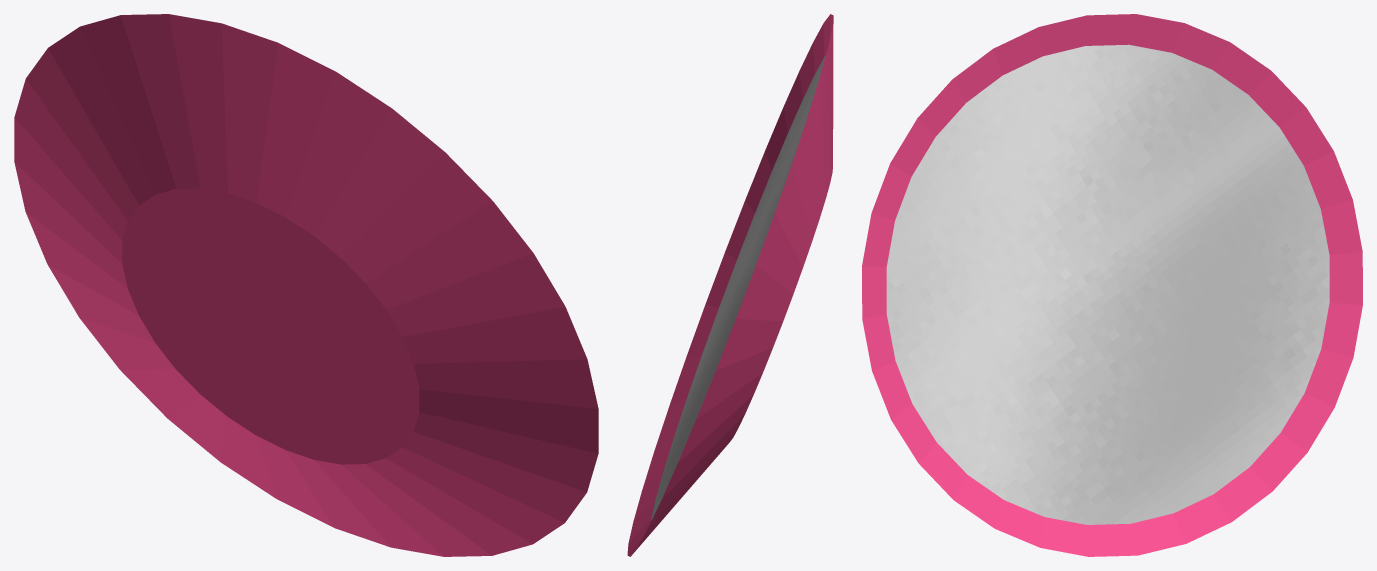
Rendered from mirror.fbx.
The picture shows the model from 3 angles, left to right: view 1: azimuth 30°, elevation 25°; view 2: azimuth 150°, elevation 25°; view 3: azimuth 270°, elevation 25°; orthographic projection. The views are drawn at different scales.
Visible parts, largest first — view 1: Circle; view 2: Circle; view 3: Circle.
Part boxes in pixels (<box>): Circle: <box>14,14,598,556</box>; Circle: <box>627,14,833,556</box>; Circle: <box>862,14,1362,556</box>.
Bounding box in the file's own units: 103 × 188 × 184.
